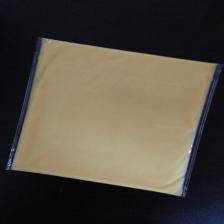cheese: (10, 37, 218, 196)
